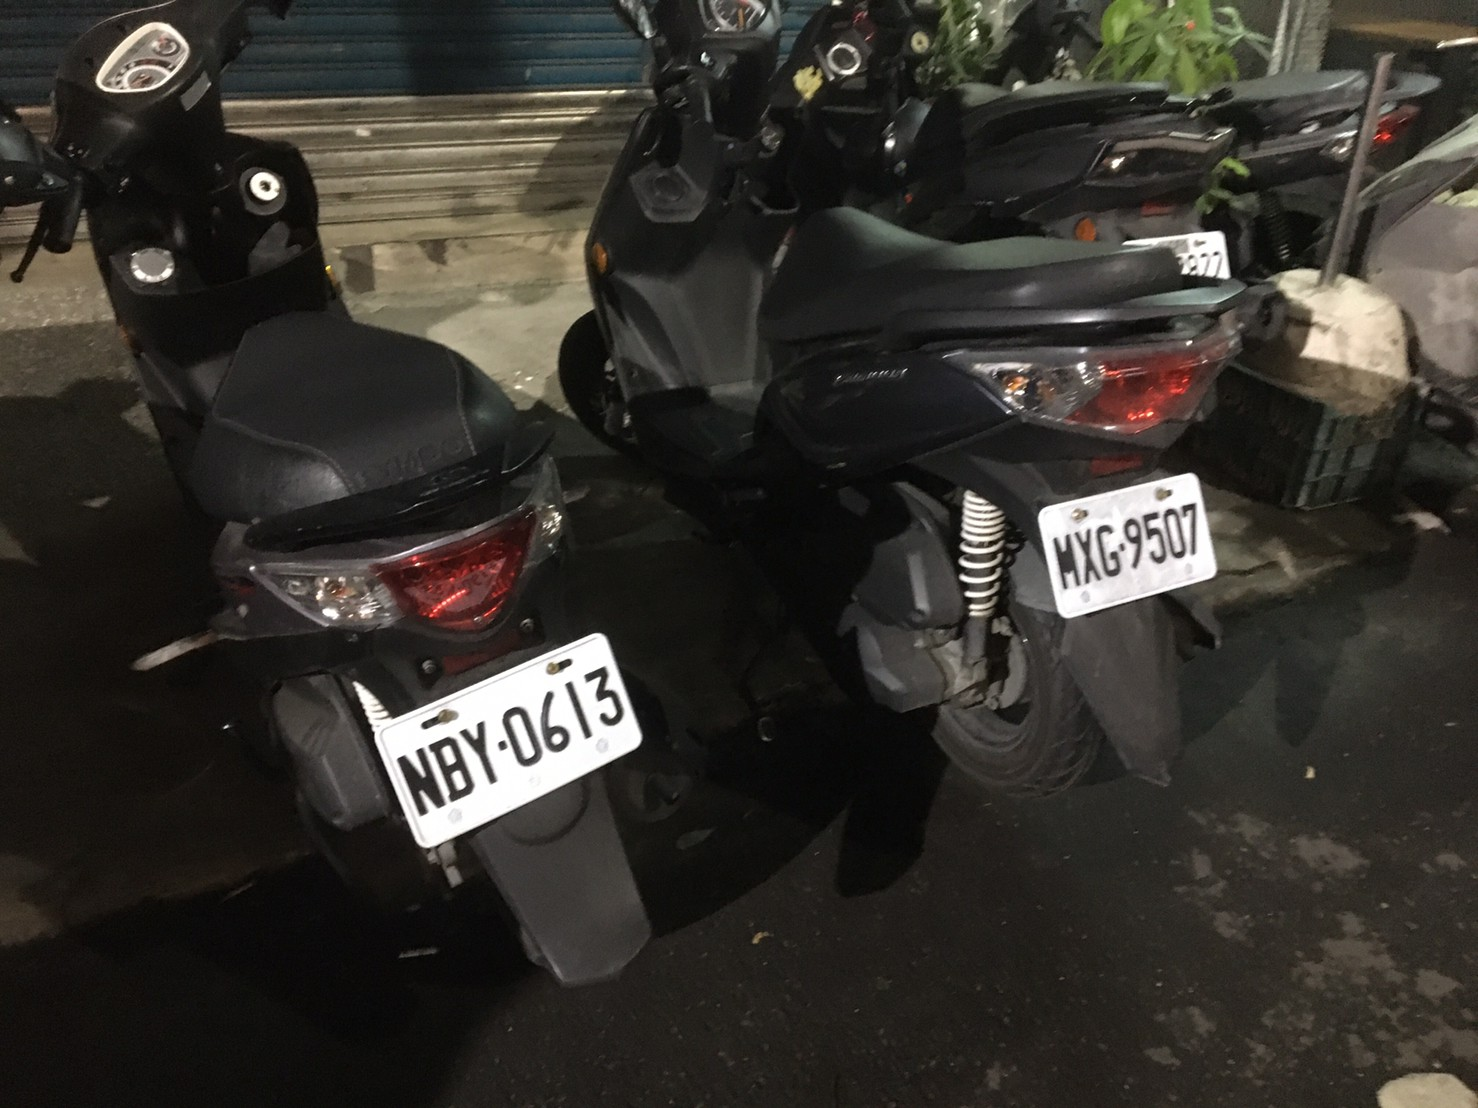LP: (386, 660, 640, 830), (1050, 471, 1203, 615)
